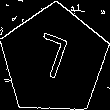L_S: (32, 31, 77, 89)
